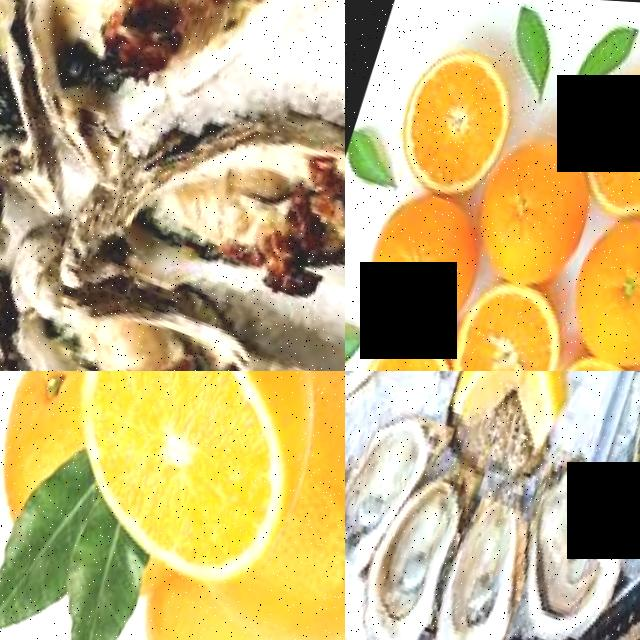lemon: (501, 371, 582, 448), (448, 371, 544, 435)
orange: (41, 371, 345, 590), (237, 371, 345, 640), (383, 35, 522, 209), (349, 184, 487, 352), (466, 124, 597, 298), (0, 371, 112, 517), (552, 197, 640, 371), (439, 271, 568, 371), (568, 60, 640, 215), (119, 593, 320, 640), (345, 330, 464, 371)
oysters: (76, 74, 345, 364), (21, 0, 345, 170), (0, 233, 345, 371), (504, 477, 638, 640), (415, 472, 542, 640), (348, 473, 465, 640), (345, 392, 423, 593), (345, 371, 418, 431), (610, 425, 640, 570)
